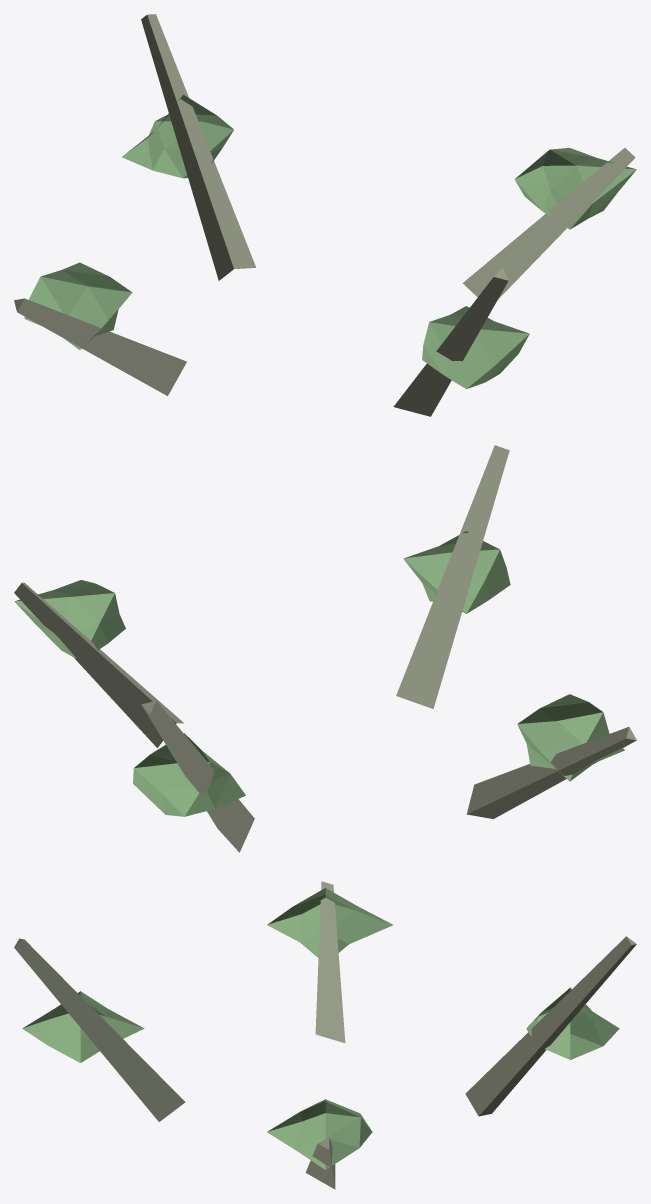
The model's file is bramble_v33.glb.
3 views of the same model, one above another, from view 1: azimuth 30°, elevation 25°; view 2: azimuth 150°, elevation 25°; view 3: azimuth 270°, elevation 25° (orthographic). The views are drawn at different scales.
Parts seen in each view (by area): view 1: lod0; view 2: lod0; view 3: lod0.
Boxes of the visible parts, left/top/right/bottom form: lod0: left=14, top=14, right=636, bottom=416; lod0: left=14, top=445, right=636, bottom=852; lod0: left=14, top=881, right=636, bottom=1189.
Size of what is drawn, in the model's own units: 0.7802 by 0.2535 by 0.7813.
